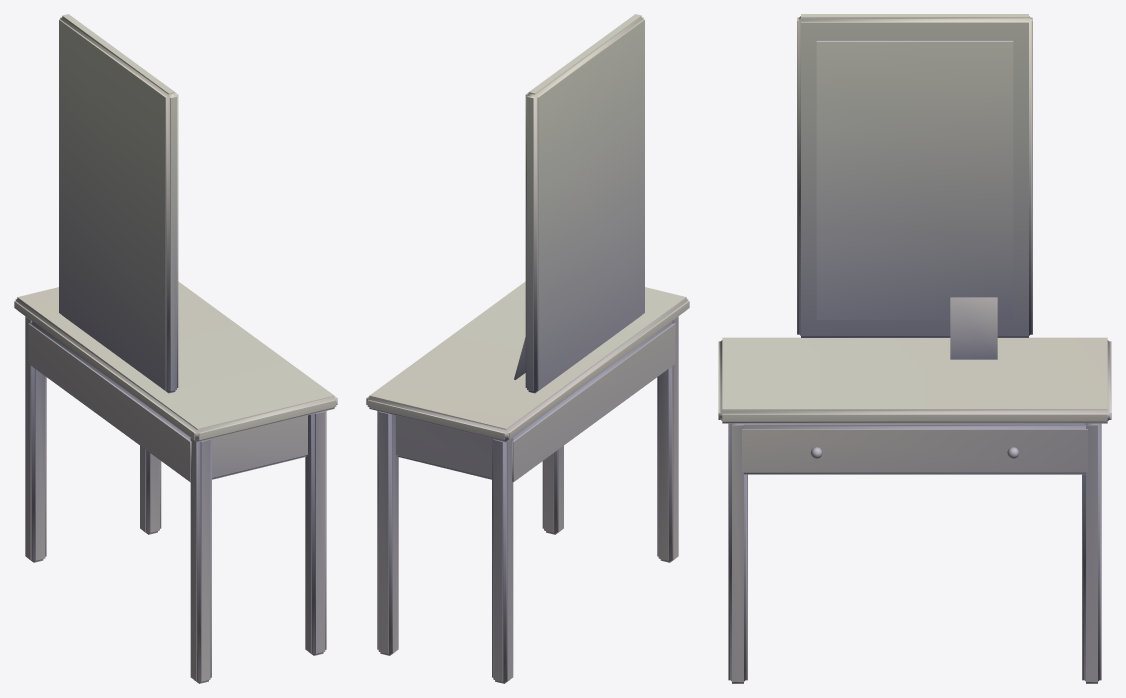
File: dressing-table.glb
3 renders of one model, left to right at view 1: azimuth 30°, elevation 25°; view 2: azimuth 150°, elevation 25°; view 3: azimuth 270°, elevation 25°, orthographic. The views are drawn at different scales.
Visible parts, largest first — view 1: body; view 2: body; view 3: body.
Boxes of the visible parts, <box> form: body: <box>14,14,337,683</box>; body: <box>366,14,689,683</box>; body: <box>718,14,1111,683</box>.
Bounding box in the file's own units: 0.4598 × 1.7 × 1.
